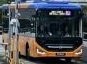bus: (64, 9, 71, 16)
